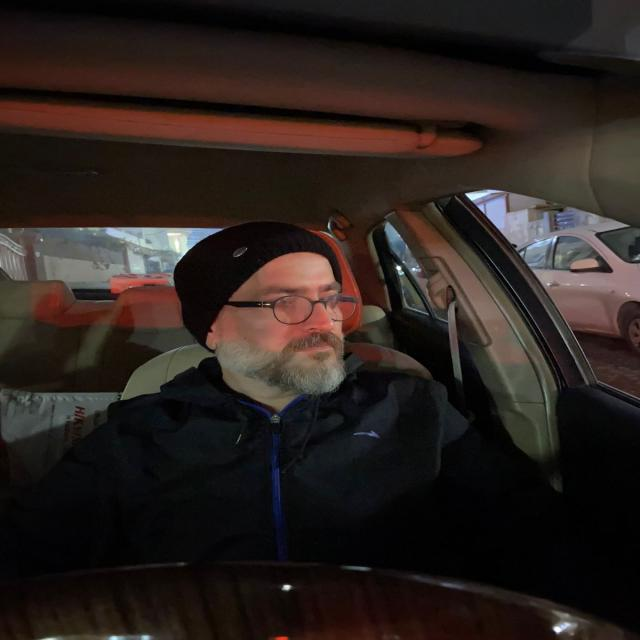person: (180, 228, 373, 404)
